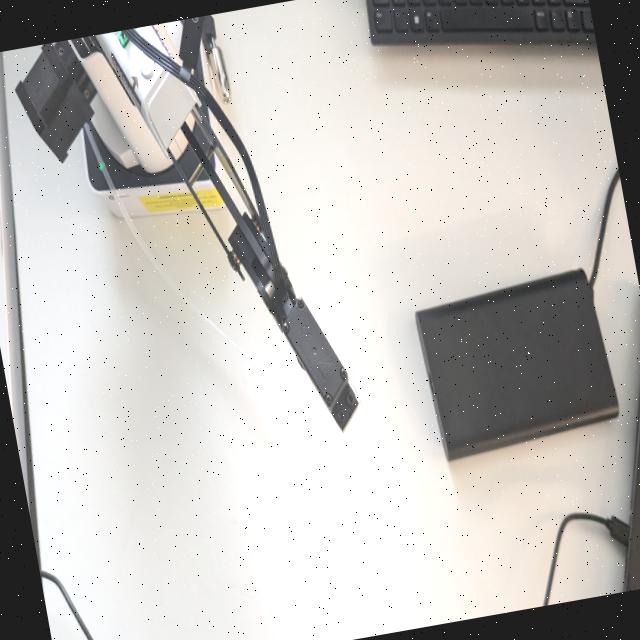Robot-end-effector-HF8z: (272, 286, 368, 446)
